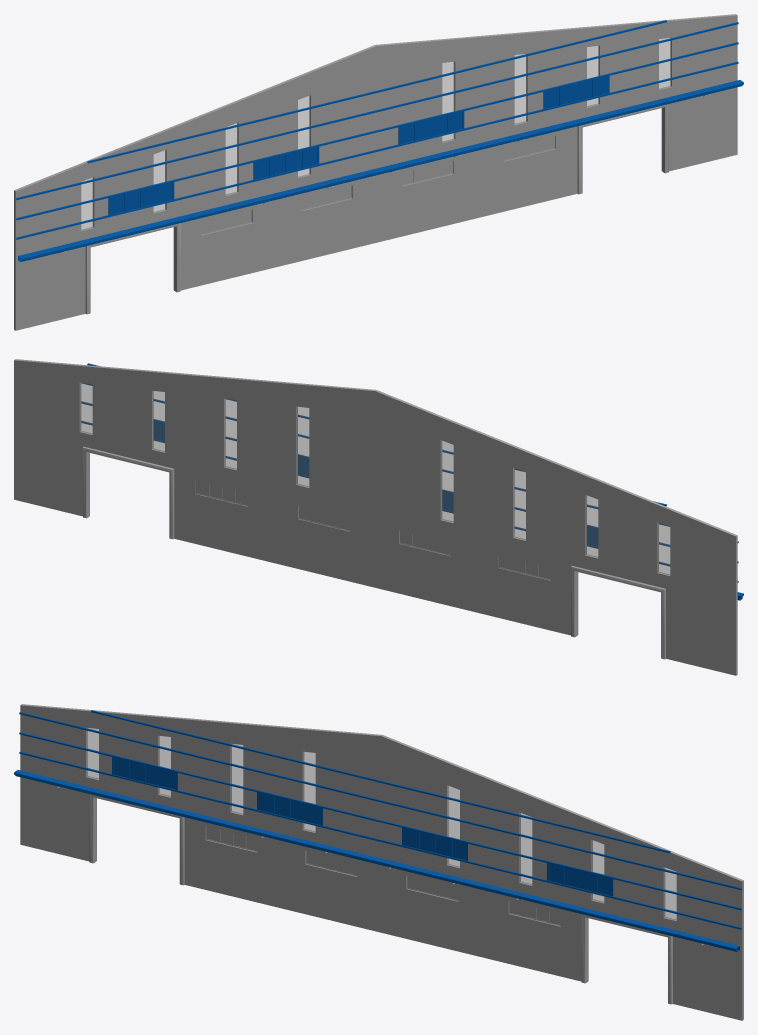
Rendered from QianQiang.fbx.
3 renders of one model, top to bottom at view 1: azimuth 30°, elevation 25°; view 2: azimuth 150°, elevation 25°; view 3: azimuth 330°, elevation 25°, orthographic.
Parts seen in each view (by area): view 1: polySurface33, polySurface11, pCube27, pCube21, polySurface37, pPlane3, pPlane5, pPlane4, pPlane2, polySurface12, polySurface42; view 2: polySurface33, polySurface11, polySurface37, polySurface12, polySurface42, pCube27; view 3: polySurface33, polySurface11, pCube27, pCube21, polySurface37, pPlane5, polySurface12, pPlane4, pPlane3, pPlane2, polySurface42.
Boxes of the visible parts, x1,y1,x2,y2 form: polySurface33: (14,14,737,254); polySurface11: (14,78,737,330); pCube27: (16,20,738,239); pCube21: (18,80,743,261); polySurface37: (81,38,670,229); pPlane3: (253,146,319,179); pPlane5: (543,76,609,109); pPlane4: (398,111,464,144); pPlane2: (108,182,174,215); polySurface12: (85,223,180,314); polySurface42: (577,104,668,194); polySurface33: (14,359,737,599); polySurface11: (14,423,737,675); polySurface37: (80,383,670,574); polySurface12: (571,565,665,659); polySurface42: (83,446,174,539); pCube27: (81,363,738,582); polySurface33: (20,704,743,944); polySurface11: (20,768,743,1020); pCube27: (19,710,741,929); pCube21: (14,770,739,951); polySurface37: (87,728,676,919); pPlane5: (547,863,613,896); polySurface12: (89,794,184,885); pPlane4: (402,827,467,861); pPlane3: (257,792,322,825); pPlane2: (112,757,177,790); polySurface42: (581,914,672,1004).
Size of the model in its own units: 5000 by 1301 by 106.
